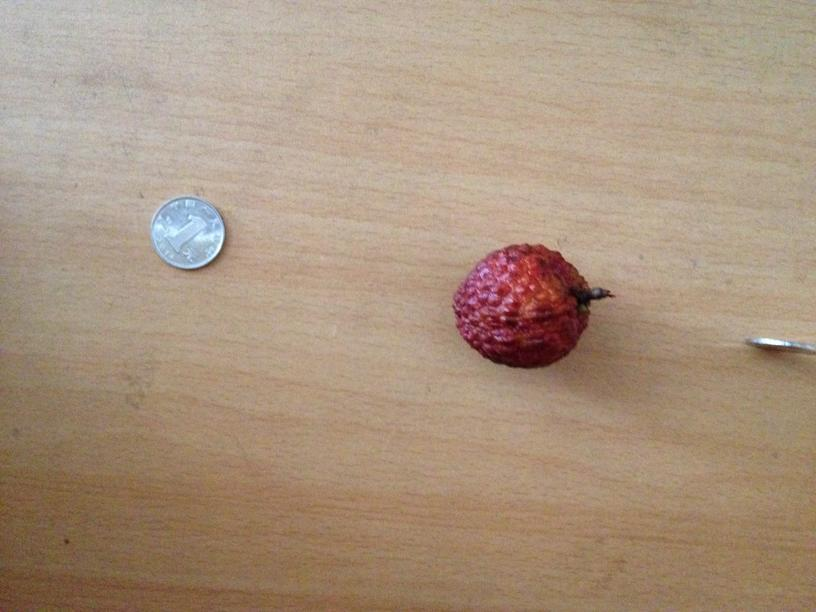coin: (145, 194, 226, 272)
litchi: (456, 242, 594, 370)
